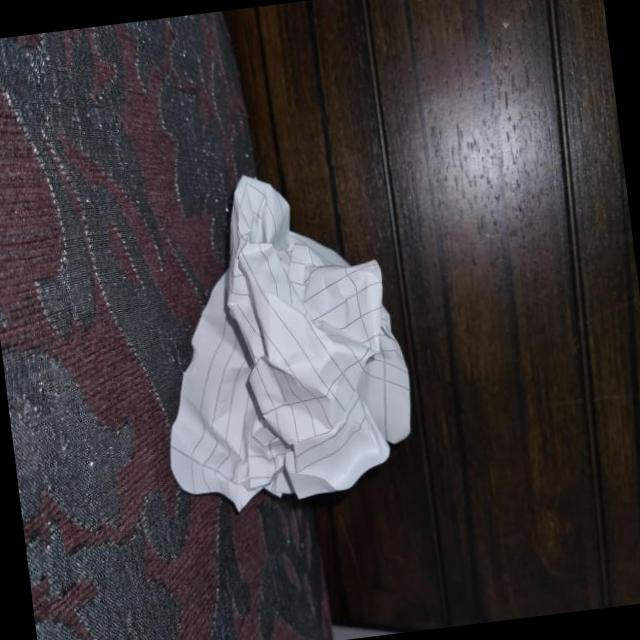cardboard paper: (172, 174, 411, 505)
